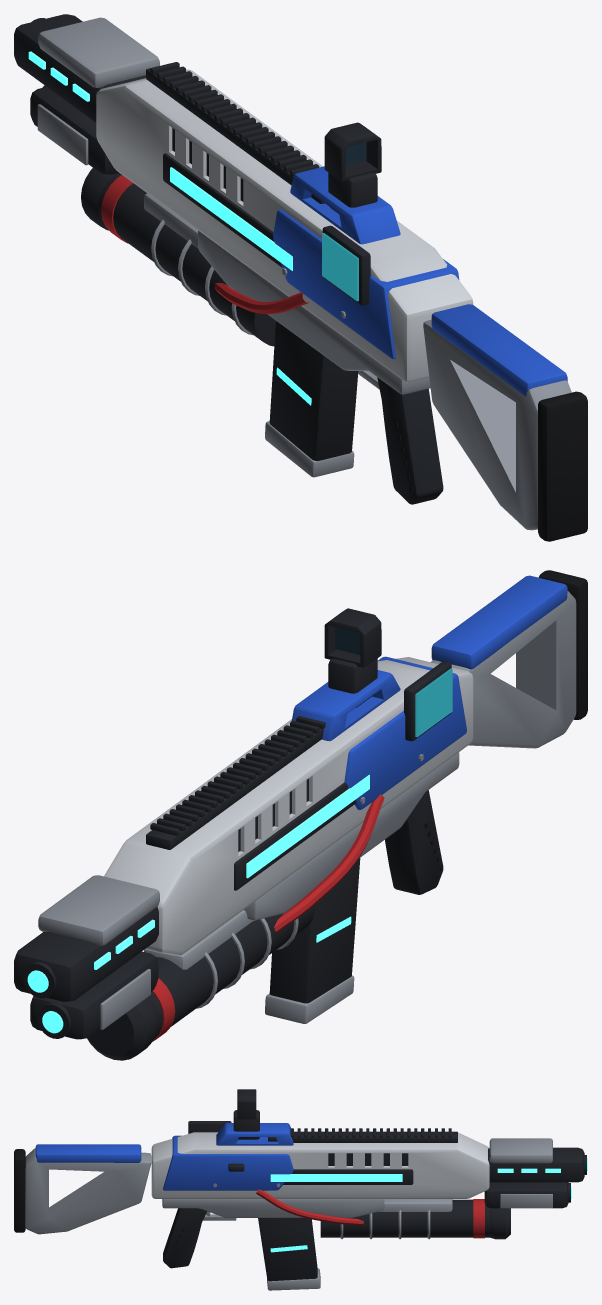
The model's file is arme_pulsar.glb.
3 views of the same model, one above another, from view 1: azimuth 30°, elevation 25°; view 2: azimuth 150°, elevation 25°; view 3: azimuth 270°, elevation 25° (orthographic). The views are drawn at different scales.
Parts seen in each view (by area): view 1: Pulsar, Chargeur; view 2: Pulsar, Chargeur; view 3: Pulsar, Chargeur.
Boxes of the visible parts, x1,y1,x2,y2 form: Pulsar: [14, 14, 587, 541]; Chargeur: [265, 321, 358, 477]; Pulsar: [14, 570, 587, 1060]; Chargeur: [265, 858, 360, 1023]; Pulsar: [14, 1089, 587, 1268]; Chargeur: [258, 1218, 320, 1290].
Size of the model in its own units: 0.1145 by 0.4029 by 1.09.
